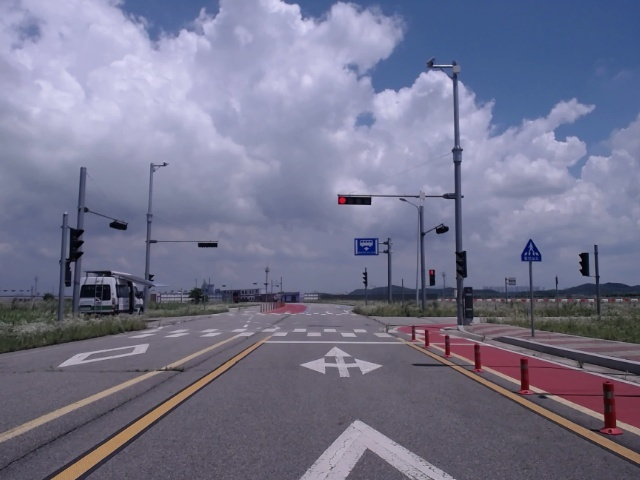red_4: (338, 196, 371, 205)
